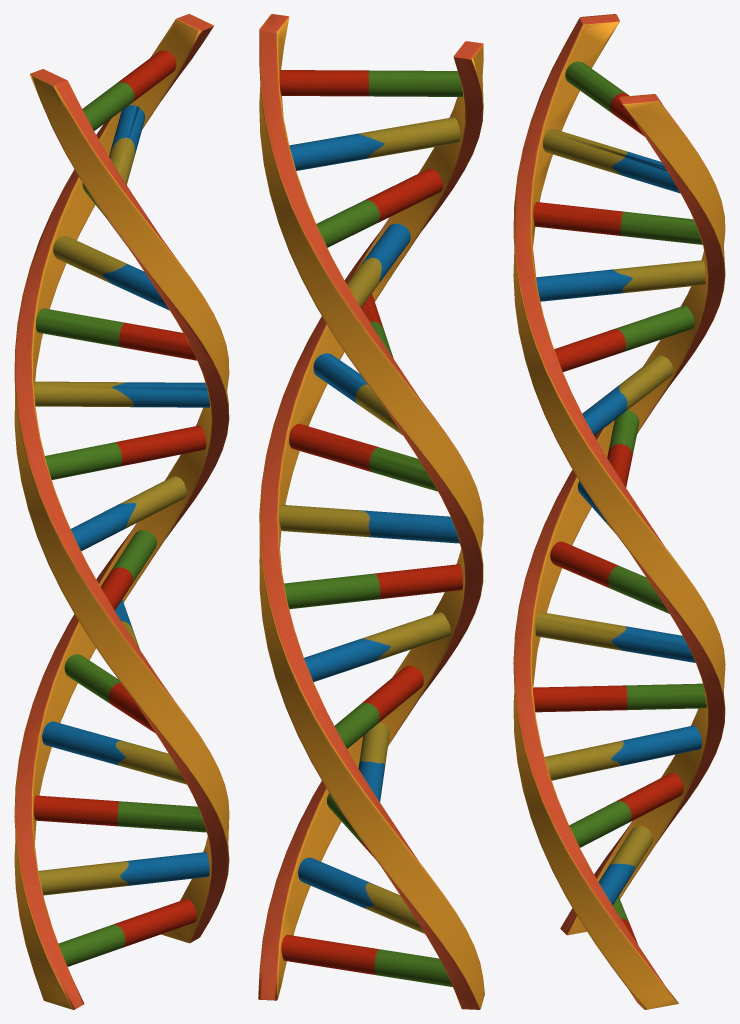
File: dna.glb
3 views of the same model, side by side, from view 1: azimuth 30°, elevation 25°; view 2: azimuth 150°, elevation 25°; view 3: azimuth 270°, elevation 25° (orthographic). The views are drawn at different scales.
Visible parts, largest first — view 1: node_id30_1; view 2: node_id30_1; view 3: node_id30_1.
Part boxes in pixels (box(x1,y1,x2,y2)): node_id30_1: box(14, 14, 229, 1009); node_id30_1: box(258, 14, 484, 1009); node_id30_1: box(513, 14, 725, 1009).
Size of the model in its own units: 0.9685 by 4.52 by 0.958.
Materials: 1 (1 with a texture image).
